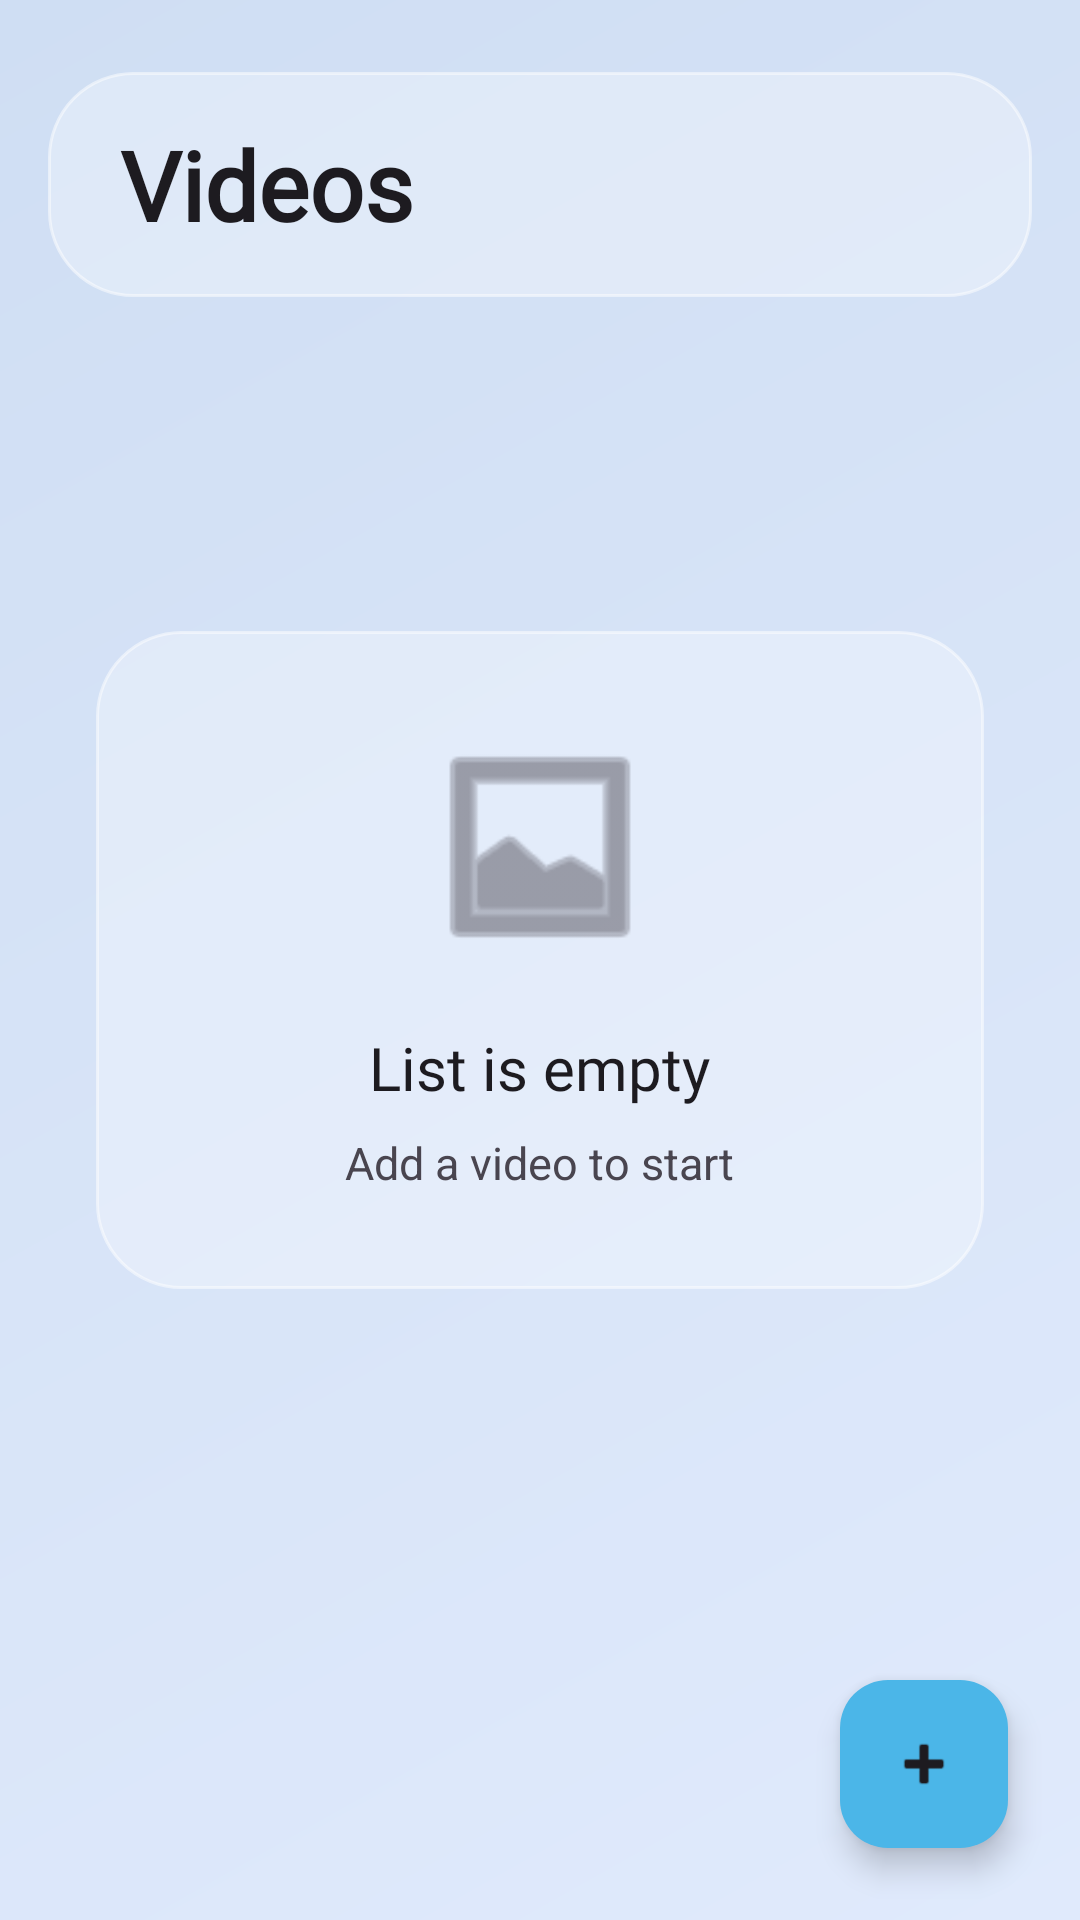

Icon bounding boxes for this 1080x1920 phone screenshot, format (x1, y1, x2, y2):
add: (840, 1680, 1008, 1848)
gallery: (450, 757, 630, 937)
